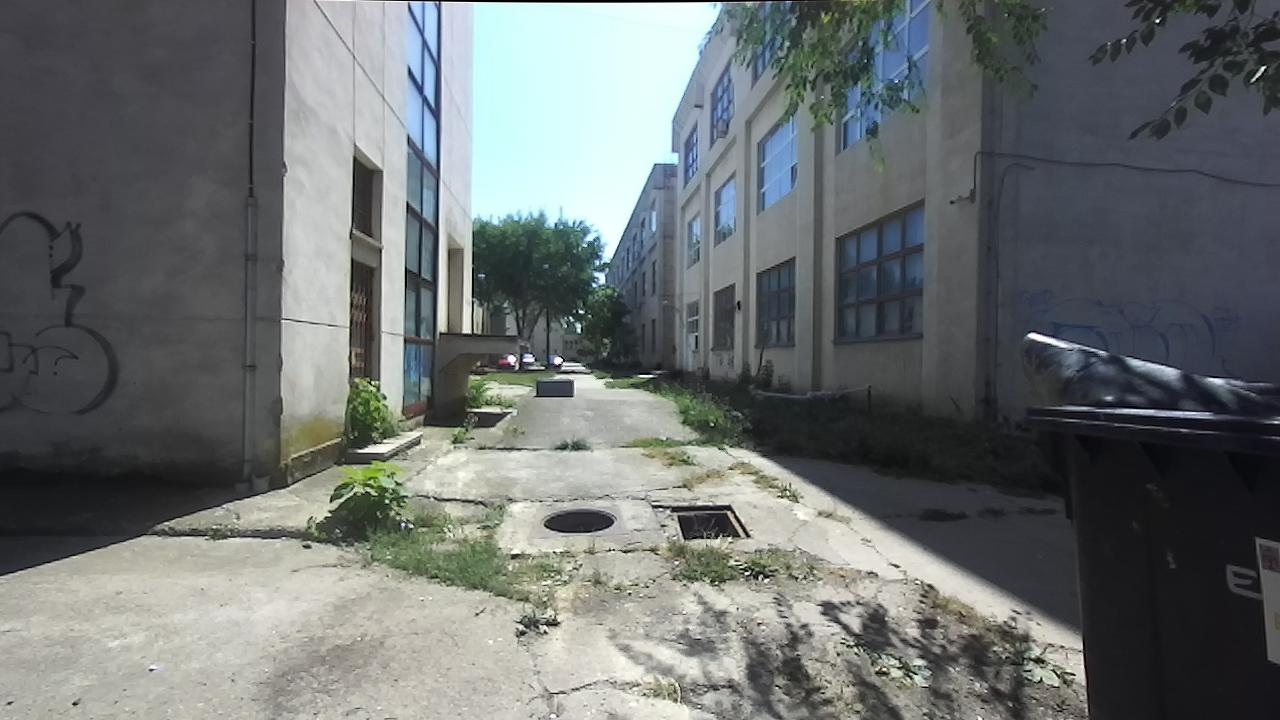drain: (667, 496, 755, 542), (535, 502, 622, 538)
